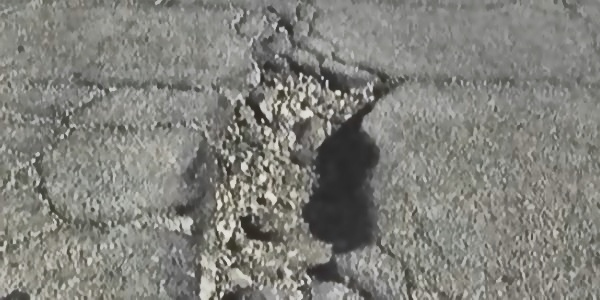pothole: (190, 48, 410, 299)
